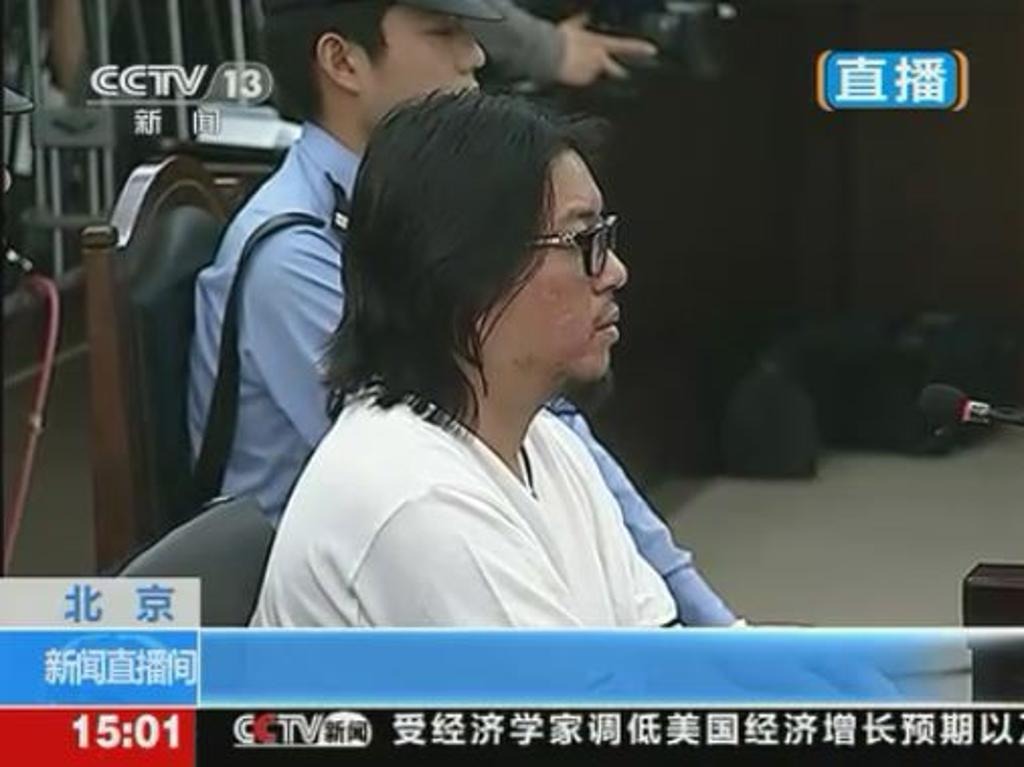face: (506, 146, 628, 372), (368, 6, 486, 144)
